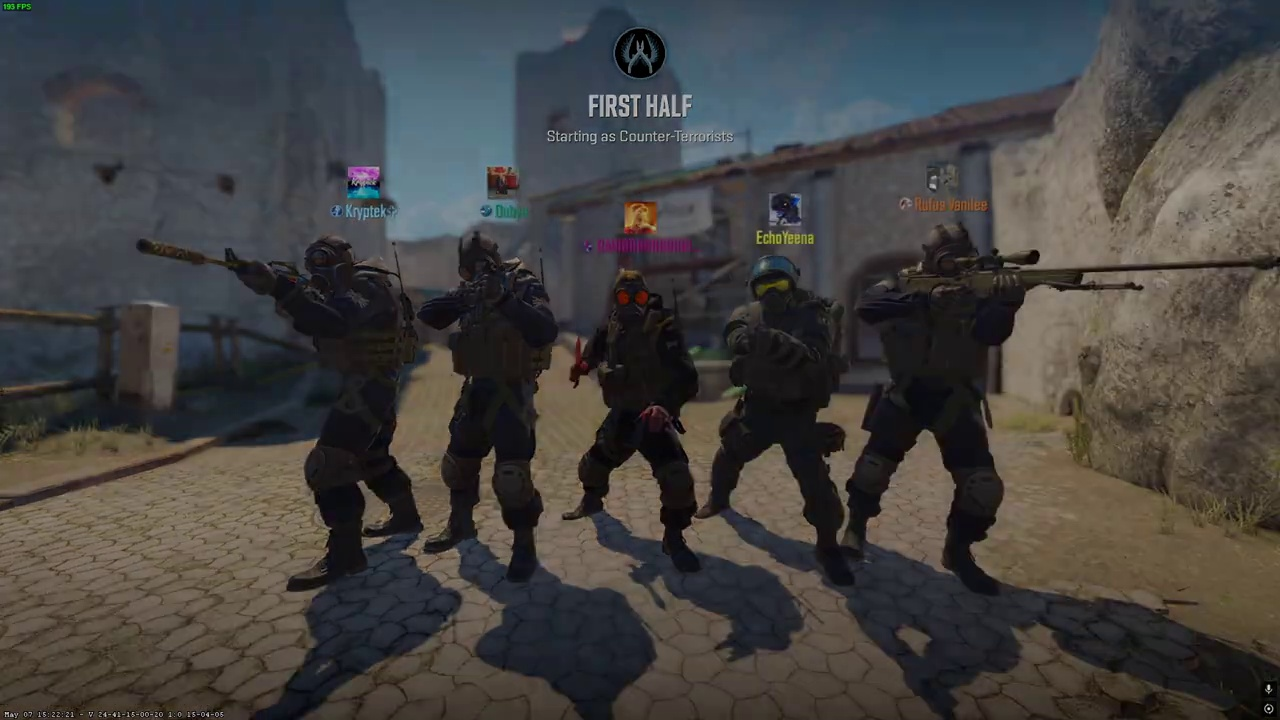CT: (844, 220, 1033, 593), (265, 237, 422, 586), (700, 252, 856, 587), (417, 228, 562, 588), (567, 268, 708, 579)
